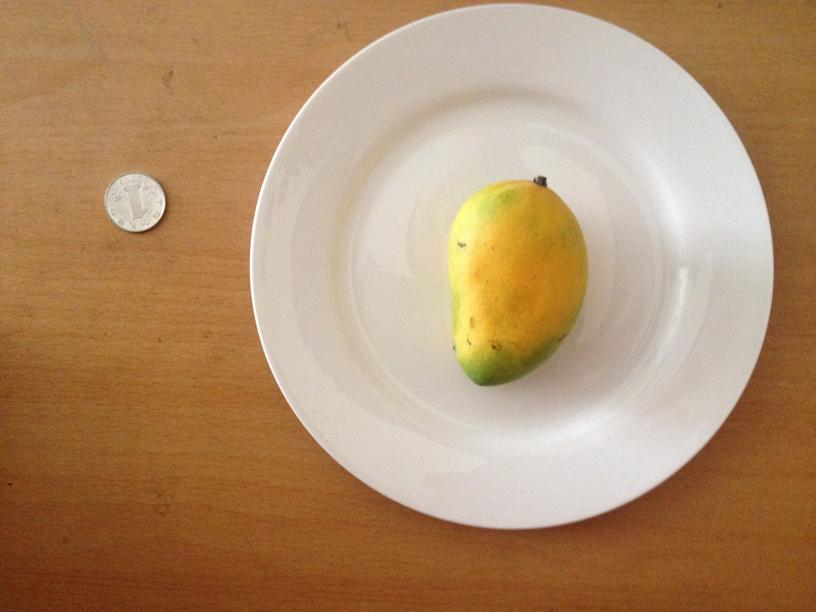coin: (102, 173, 165, 233)
mango: (446, 177, 588, 384)
